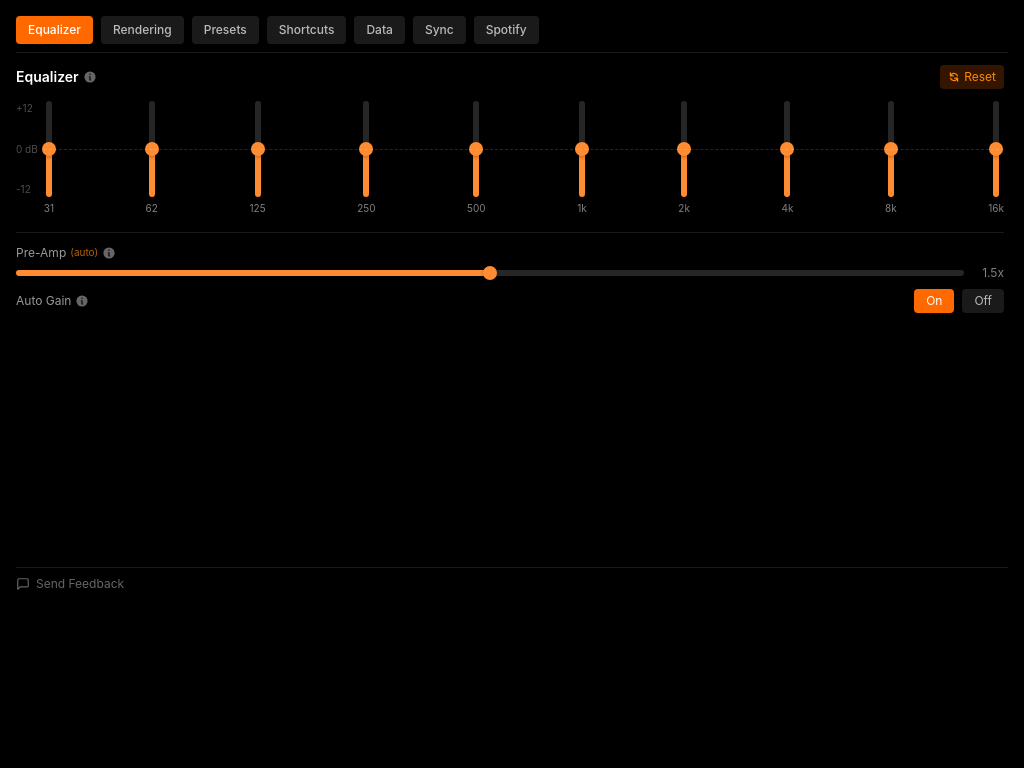
Test: SettingsPanel › shows Presets tab with Transition Time, Display, and Autopilot
This screenshot has width=1024, height=768.
Click the button "Presets": coordinates (225, 30) [192,16,259,44]
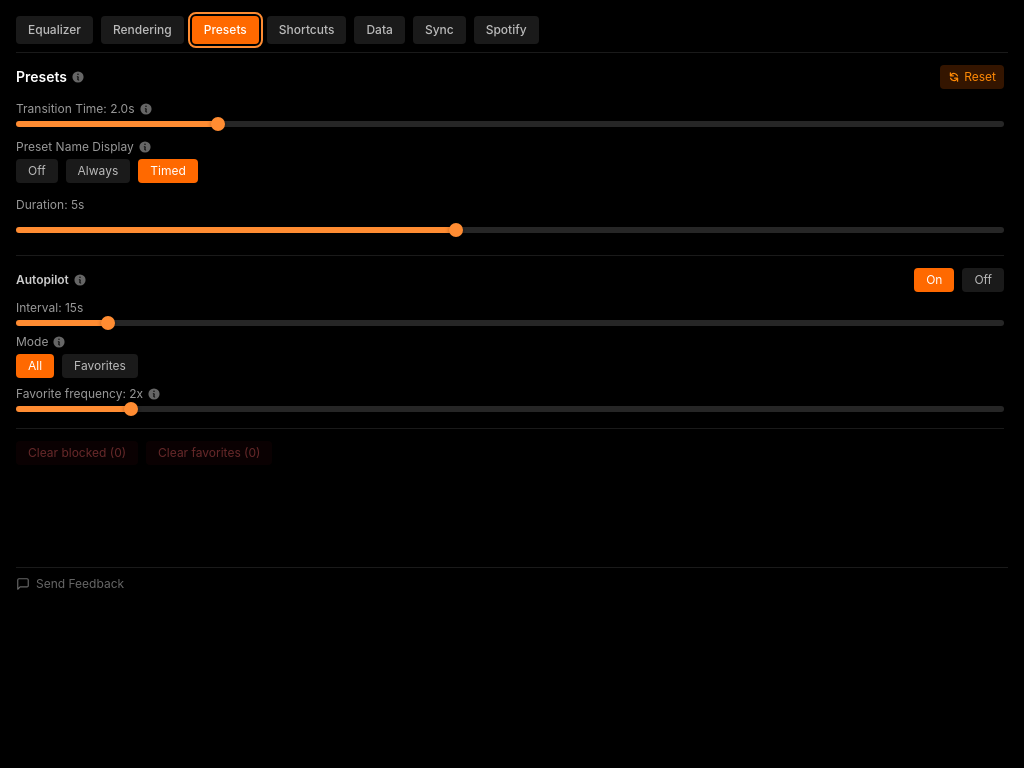
Now the text "Transition Time: 2.0s" is shown, box [16,101,152,116]
Now the text "Preset Name Display" is shown, box [16,139,152,154]
Now the text "Autopilot" is shown, box [16,272,87,288]
